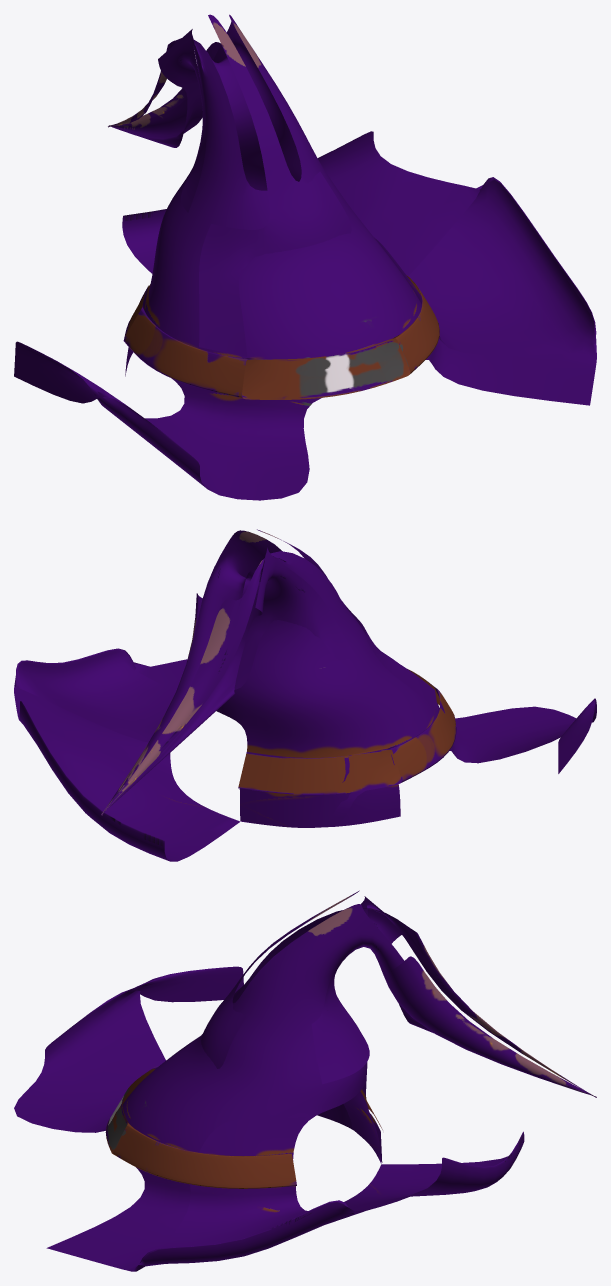
Rendered from Maguso_TornHat_Extreme.fbx.
3 views of the same model, one above another, from view 1: azimuth 30°, elevation 25°; view 2: azimuth 150°, elevation 25°; view 3: azimuth 270°, elevation 25° (orthographic). The views are drawn at different scales.
Parts seen in each view (by area): view 1: Circle; view 2: Circle; view 3: Circle.
Boxes of the visible parts, left/top/right/bottom form: Circle: left=14, top=14, right=596, bottom=500; Circle: left=14, top=529, right=596, bottom=861; Circle: left=14, top=890, right=596, bottom=1271.
Bounding box in the file's own units: 397 × 217 × 423.
